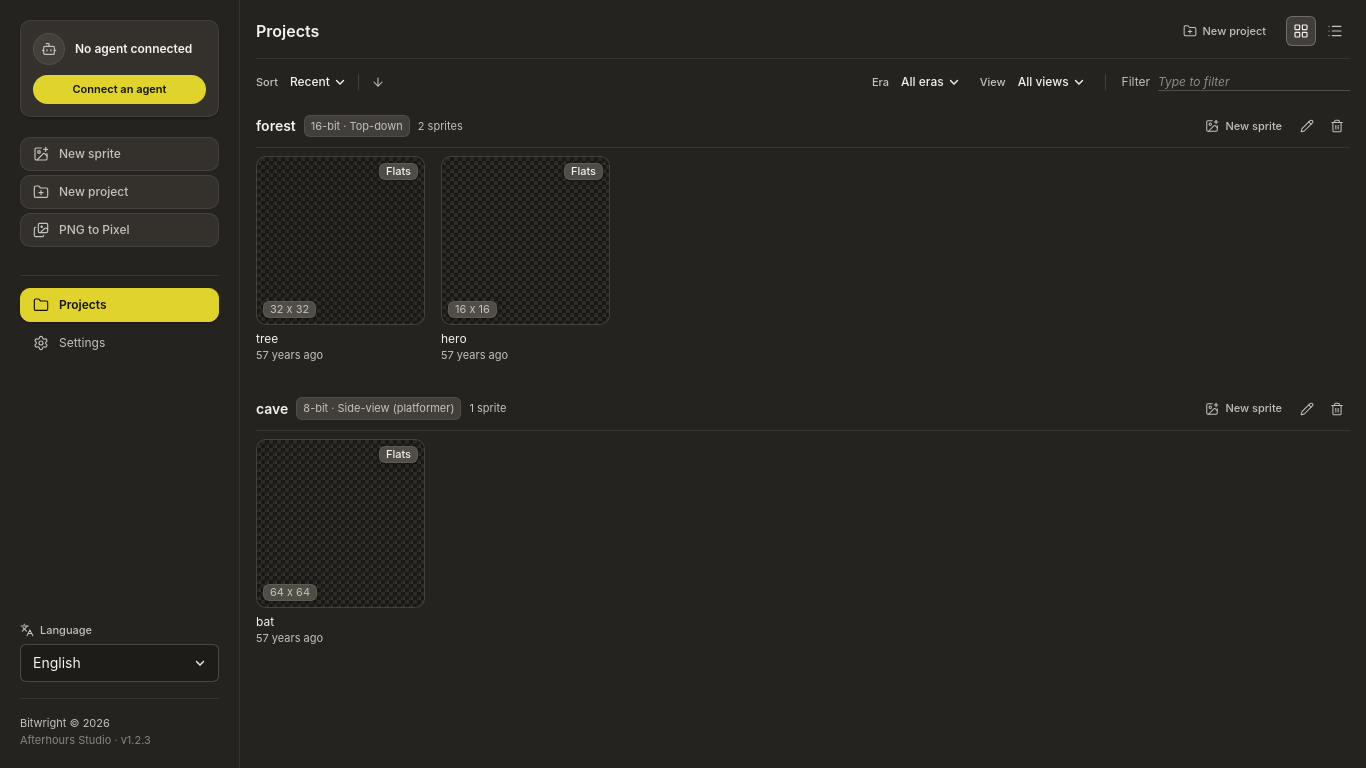
Test: HomeScreen › shows the list view as a table of the same sprites
Expected: the button named "Open bat" is shown, [257,440,424,606]
Click the button named "List view" at point(1335, 31), box [1320,16,1350,46]
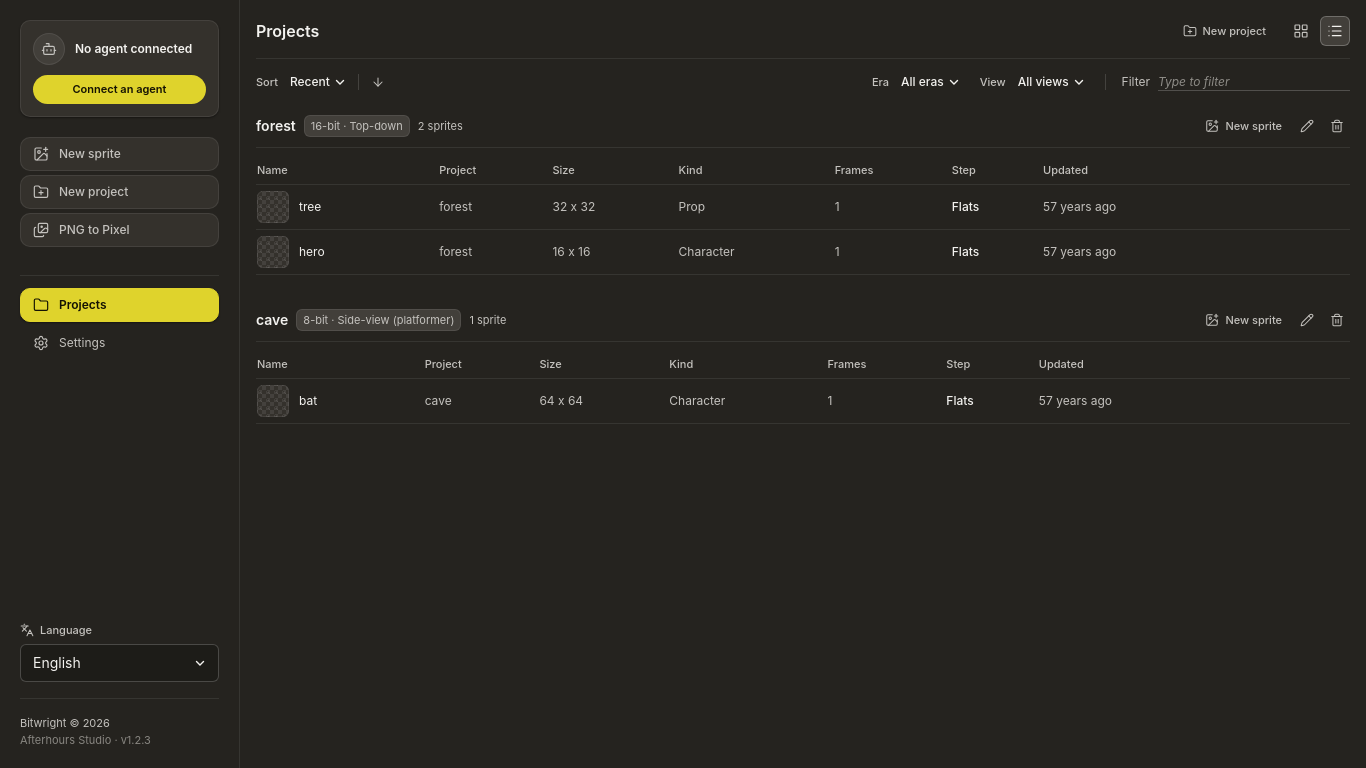
Result: the text "cave" is shown at [424,378,538,424]
